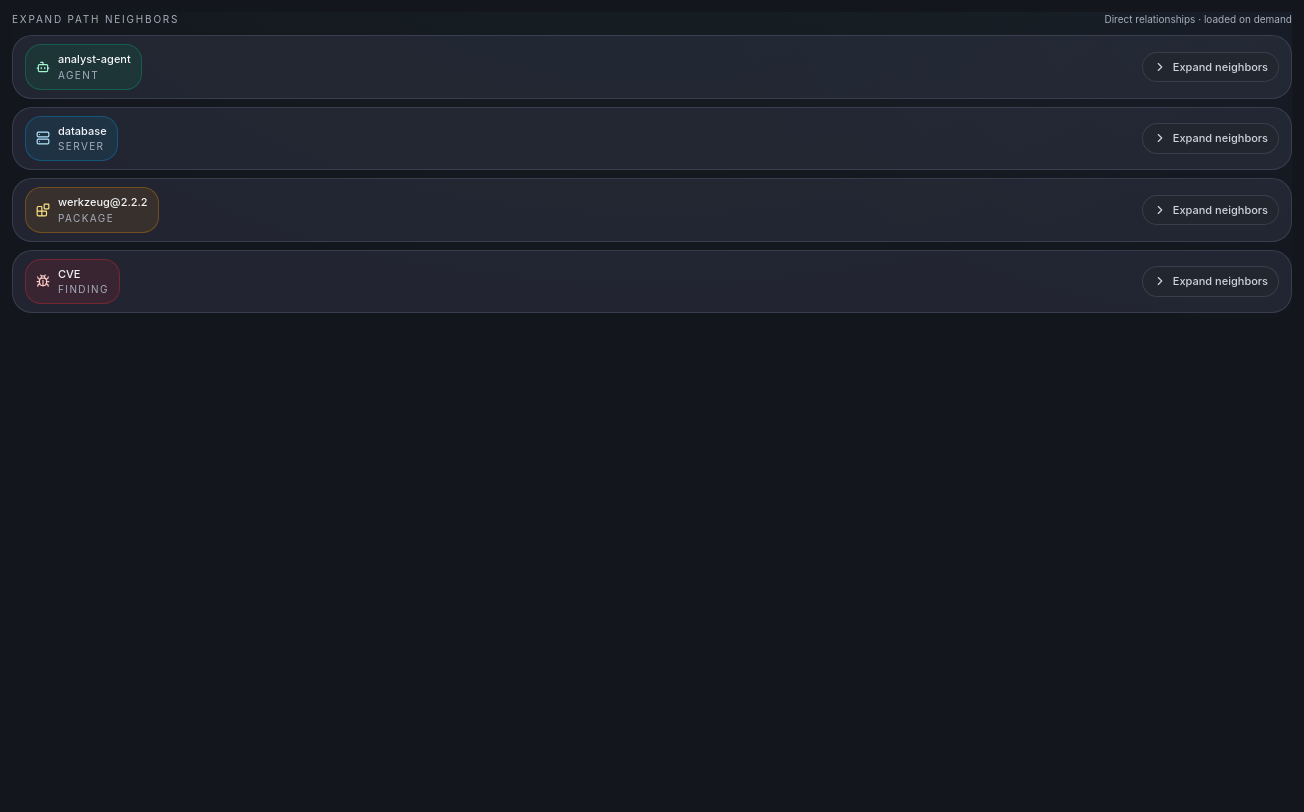
Scenario: retains both directions and multiple relationship types for the same neighbor
Click the button with aria-label "Expand neighbors of werkzeug" at [1210, 210], box [1142,194,1279,225]
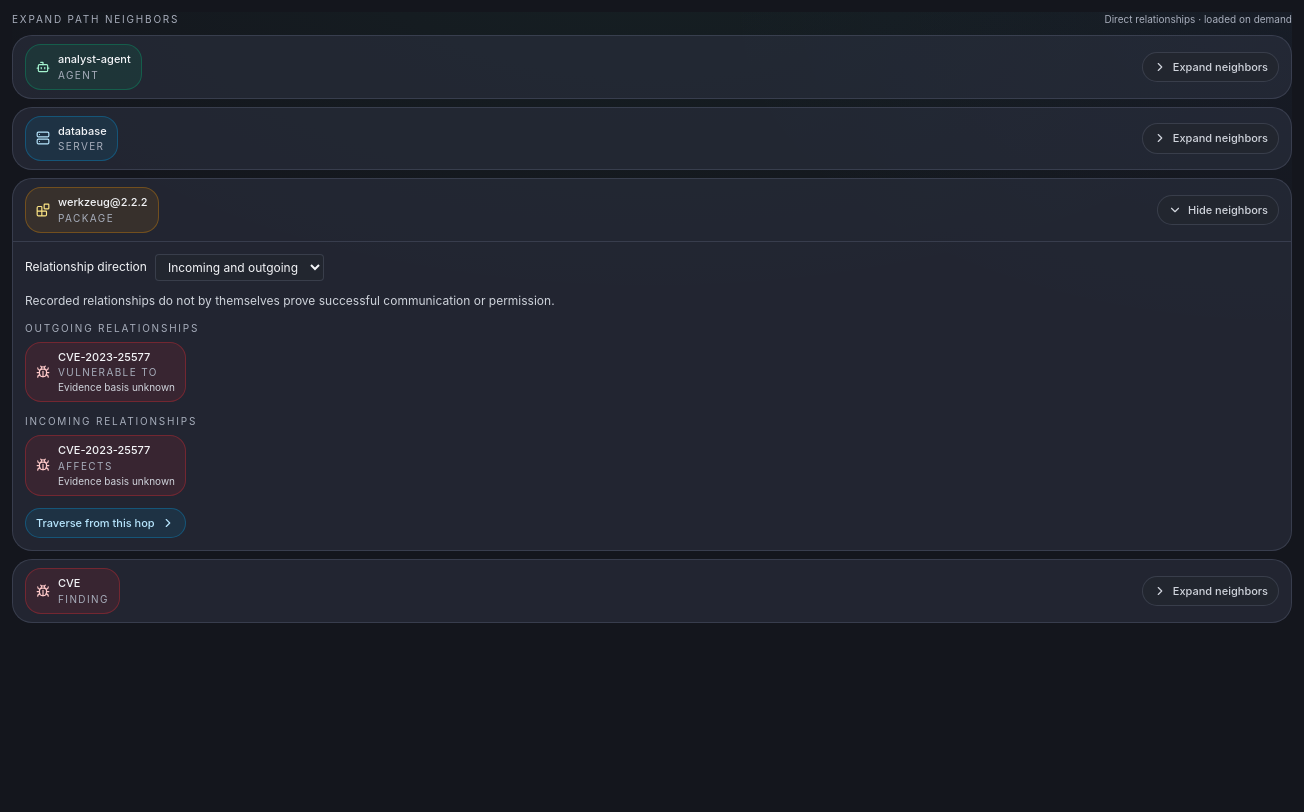
Expected: the text "Vulnerable To" is shown, [58,365,175,380]
Expected: the text "Affects" is shown, [58,460,113,472]
Expected: the text "Incoming relationships" is shown, [25,415,197,427]
